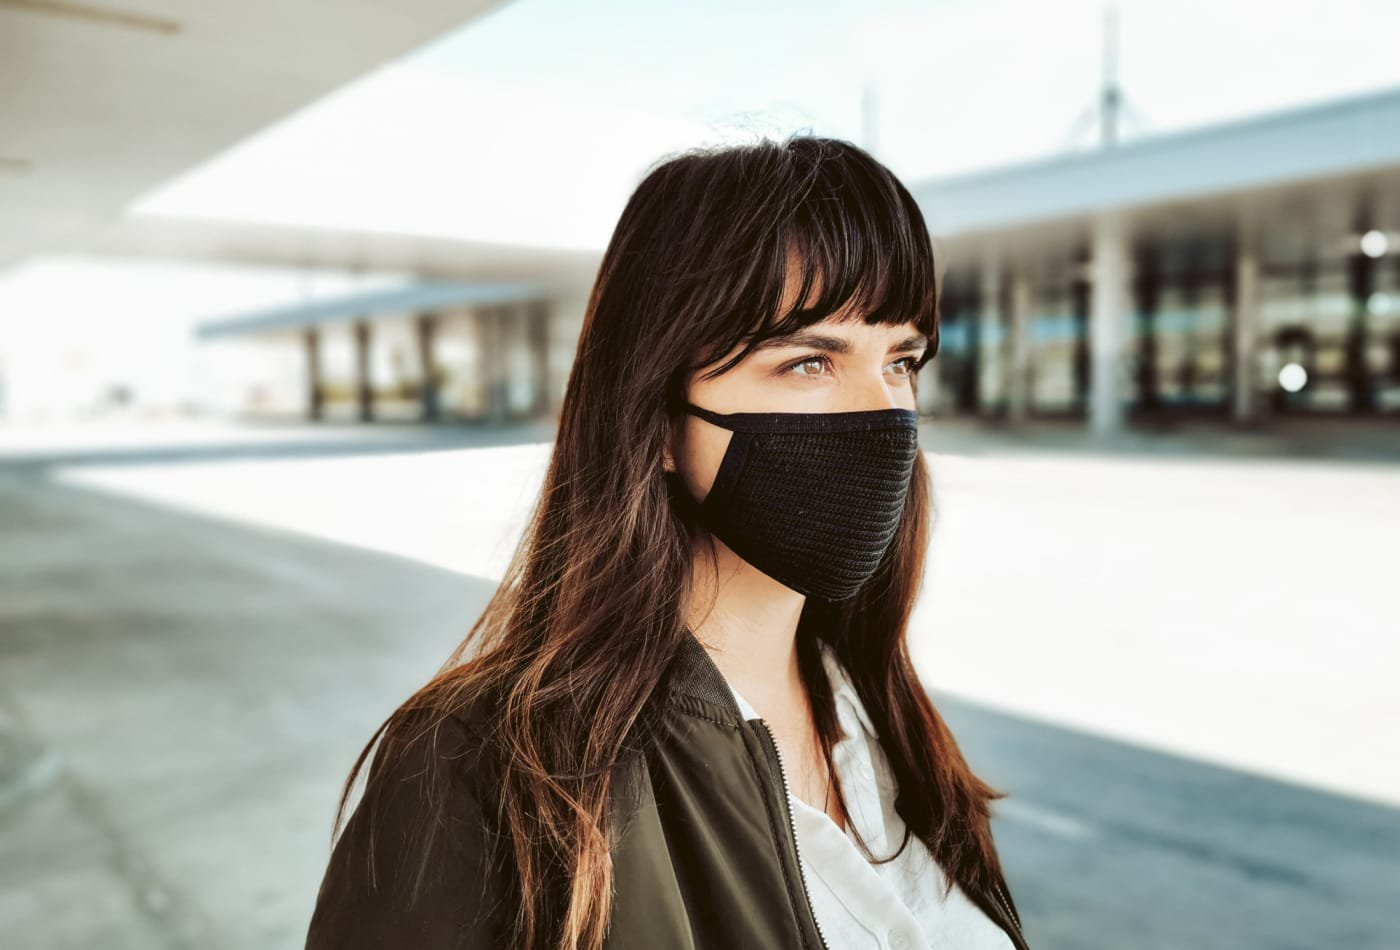mask: (584, 135, 972, 612)
